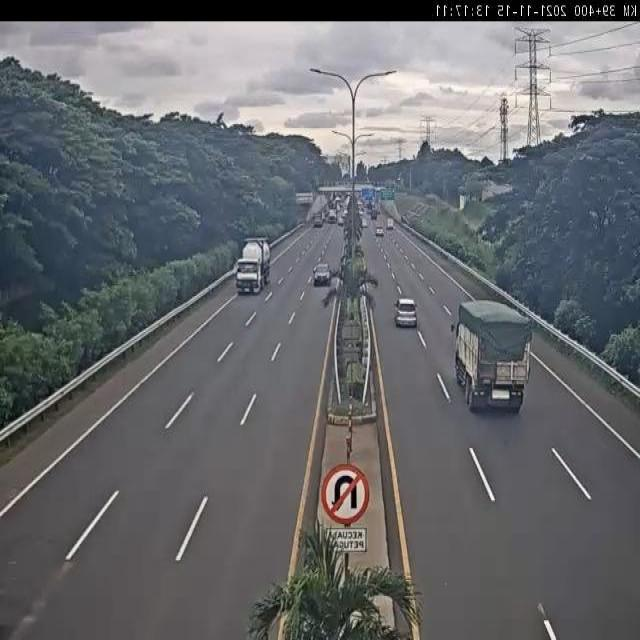Car: (396, 297, 418, 329), (314, 262, 333, 288)
Truck: (449, 301, 532, 414), (234, 234, 272, 297)
